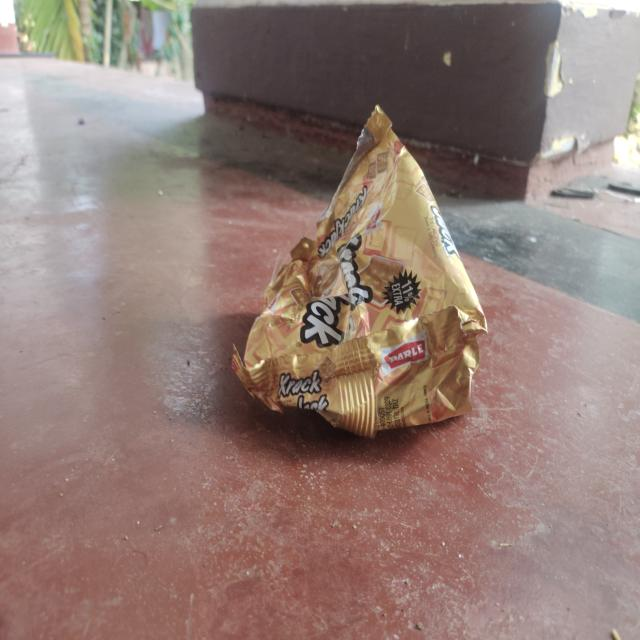plastic: (229, 106, 491, 440)
